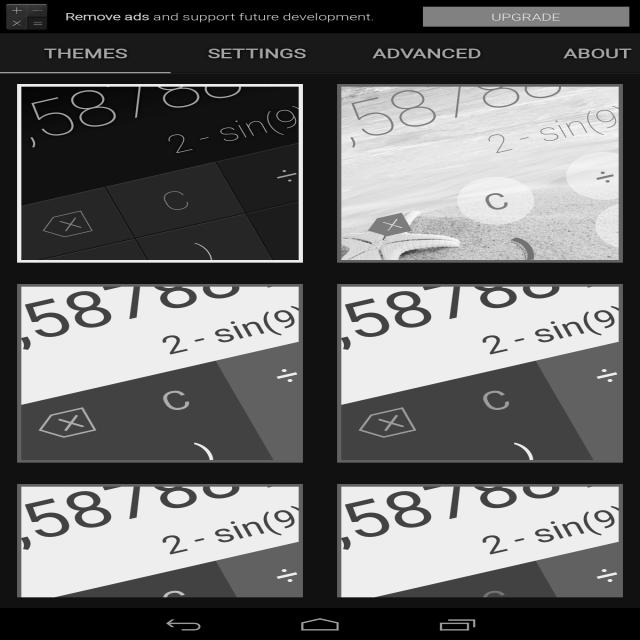Button: (418, 4, 634, 29)
ImageButton: (3, 2, 51, 32)
ImageView: (17, 85, 302, 262), (340, 285, 622, 463), (18, 484, 306, 598)
TextView: (62, 9, 377, 25), (370, 40, 484, 66)
